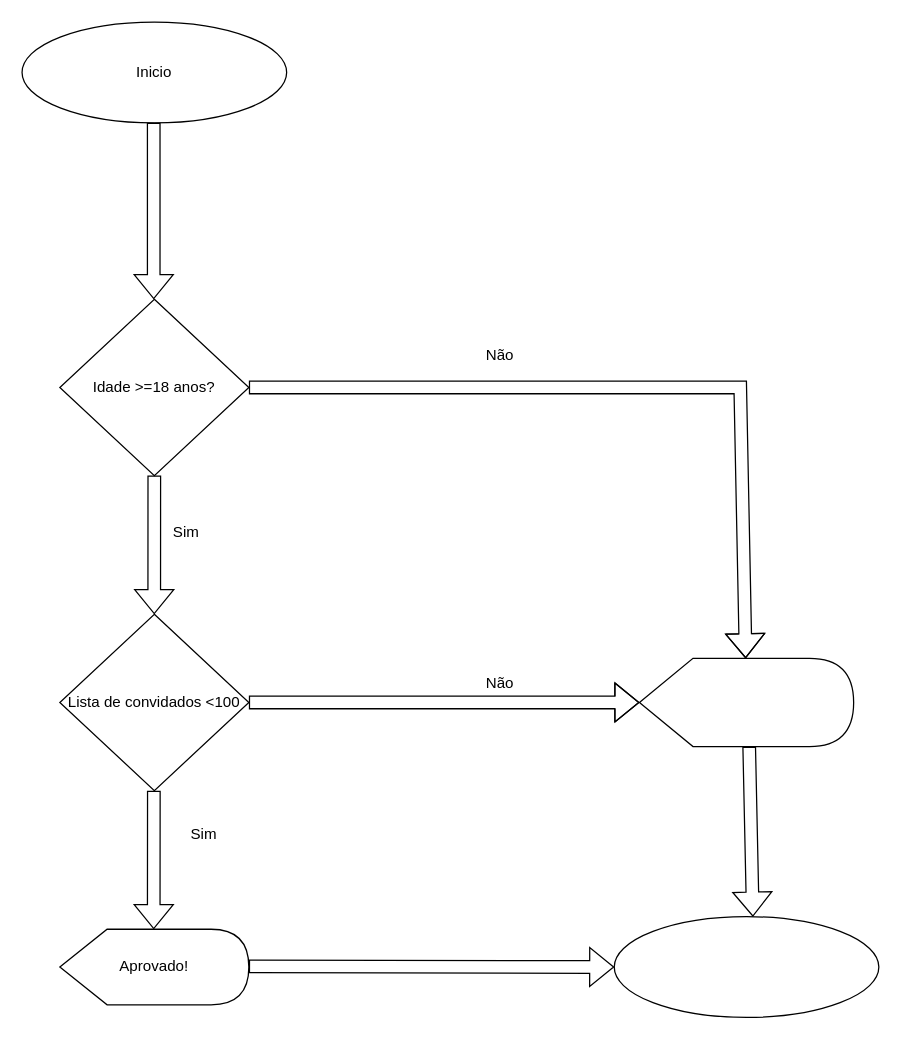
Some shapes in this 901 by 1040 pixel diagram are drawn without their labels. The shapes that lost their labels are listed below. From the top down, each one's centre as x and y in pixels, then its label:
At point (746, 702): "Reprovado".
At point (746, 966): "Fim".
